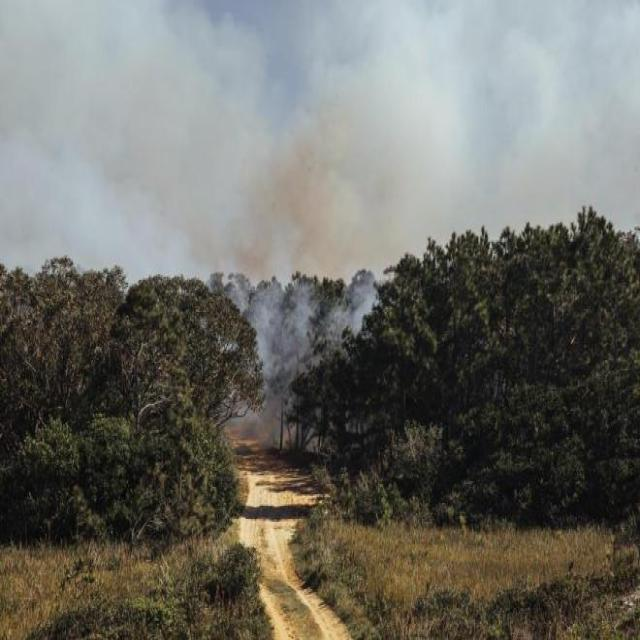Smoke: (202, 206, 390, 470)
